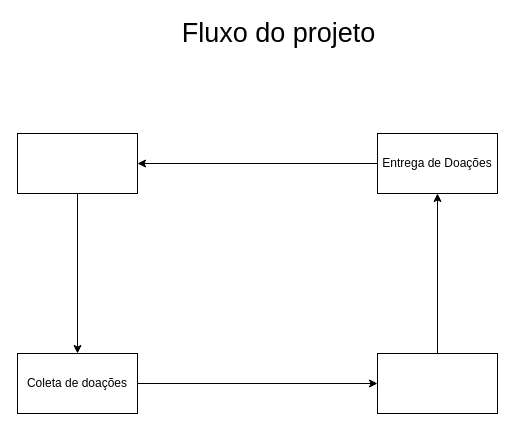
This 515x431 diagram has some shape labels left out. Here are the shapes that lost their labels. From the top down, the centre of each, then its label:
[77,163]: WorkShop (Colégio Particular)
[437,383]: WorkShop (Colégio Público)
